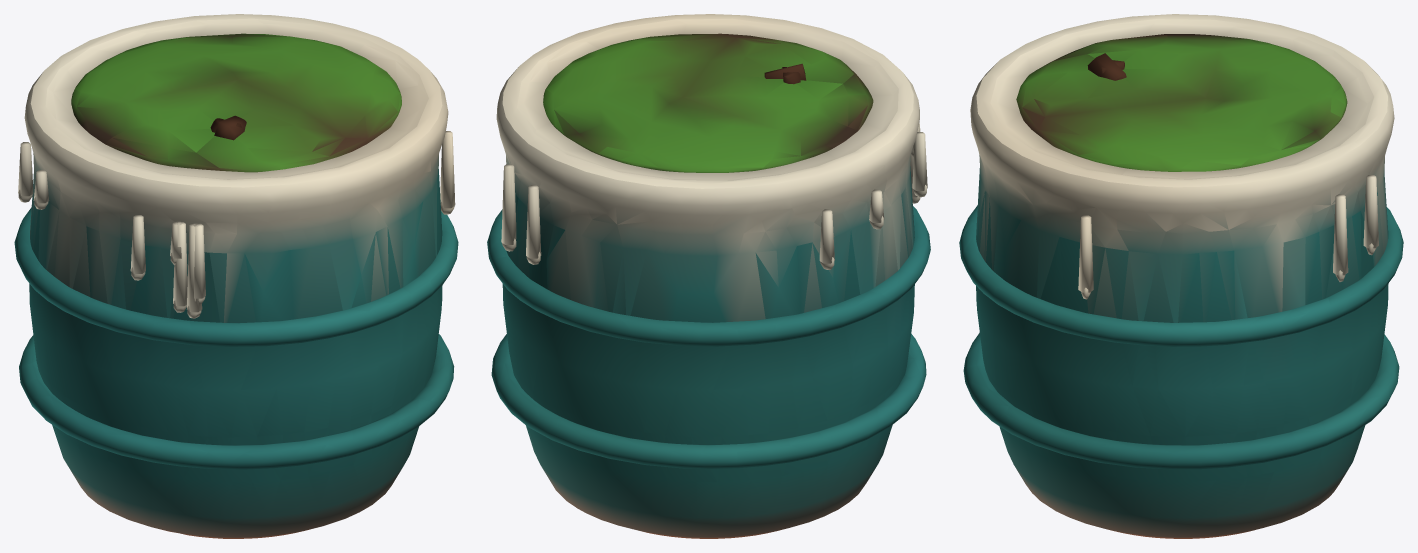
File: canopy_pot_glazed_lod1.glb
3 views of the same model, side by side, from view 1: azimuth 30°, elevation 25°; view 2: azimuth 150°, elevation 25°; view 3: azimuth 270°, elevation 25° (orthographic).
Parts seen in each view (by area): view 1: canopy_pot_glazed.001; view 2: canopy_pot_glazed.001; view 3: canopy_pot_glazed.001.
Part boxes in pixels (x1,y1,x2,y2): canopy_pot_glazed.001: (14, 14, 458, 538); canopy_pot_glazed.001: (487, 14, 930, 538); canopy_pot_glazed.001: (959, 14, 1403, 538).
Size of the model in its own units: 10.35 by 10.46 by 10.35.
